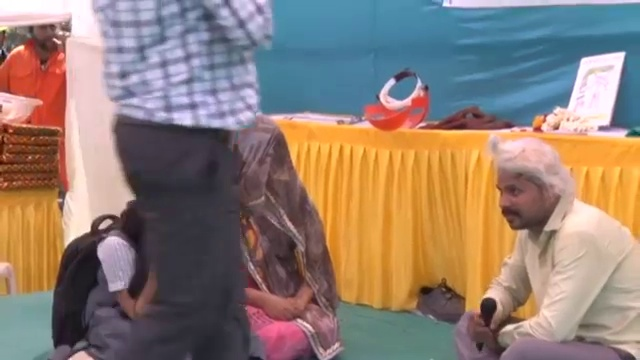helmet_off: (484, 137, 569, 238), (23, 16, 61, 60)
person: (84, 1, 273, 359), (451, 139, 633, 360), (224, 117, 340, 357), (53, 196, 165, 357), (1, 9, 66, 124)
